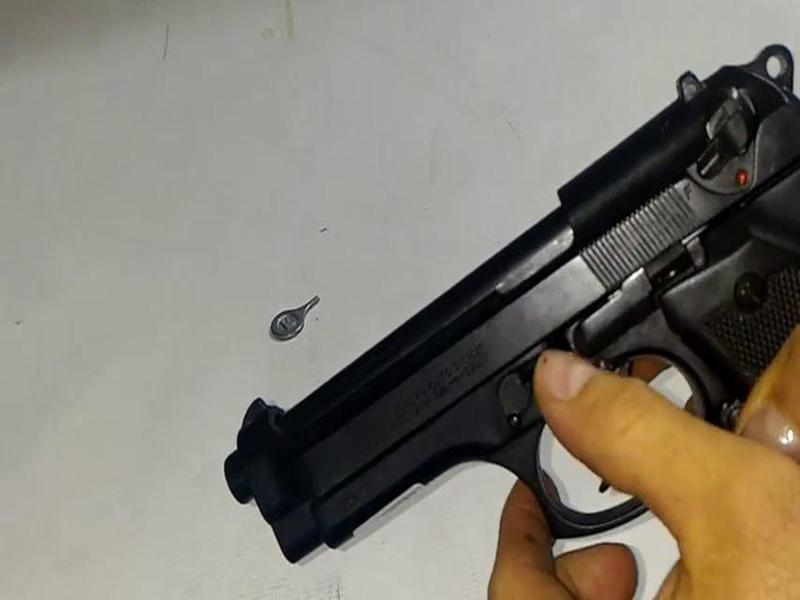Pistola: (251, 46, 800, 511)
